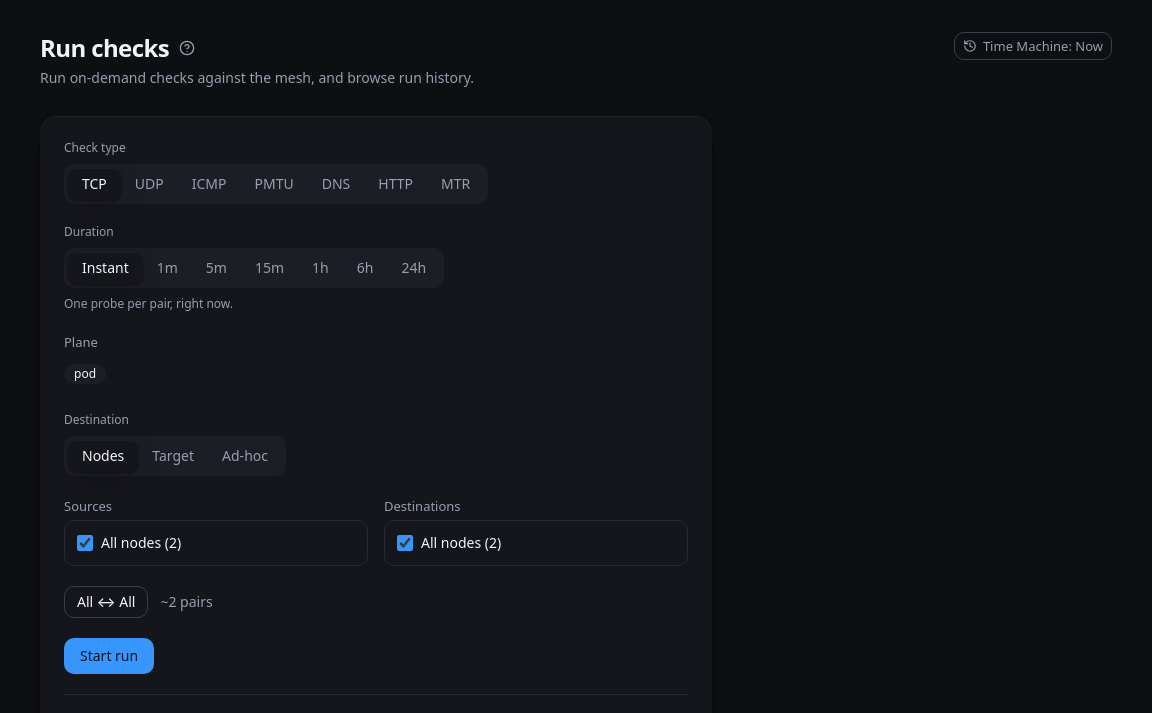
Test: DiagnosticsPage destination kinds › swaps the node destination checkboxes for the external field and back
Check: the element "Destinations All nodes (2)" is shown, box [384,496,688,566]
Click the radio button labelled "Ad-hoc" at (245, 456), box [208,440,282,472]
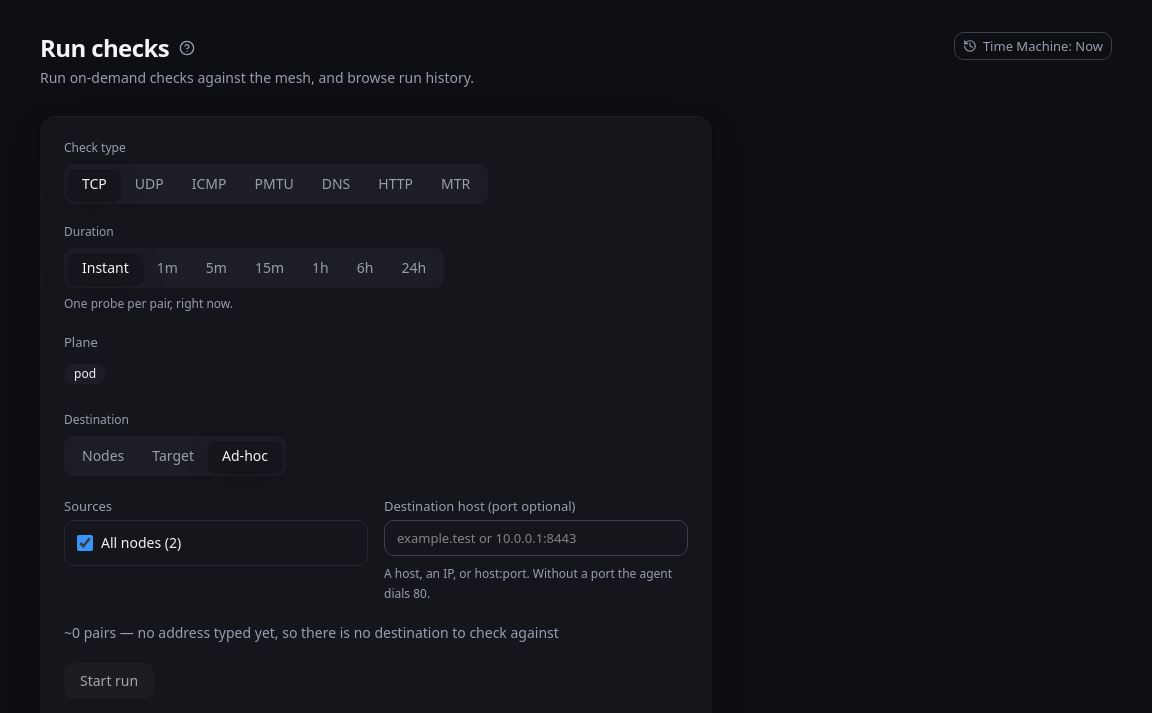
Check: the text "Destinations" is gone
Check: the field labelled "Destination host (port optional)" is shown, box [384,520,688,556]
Click the radio button labelled "Nodes" at (103, 456), box [68,440,138,472]
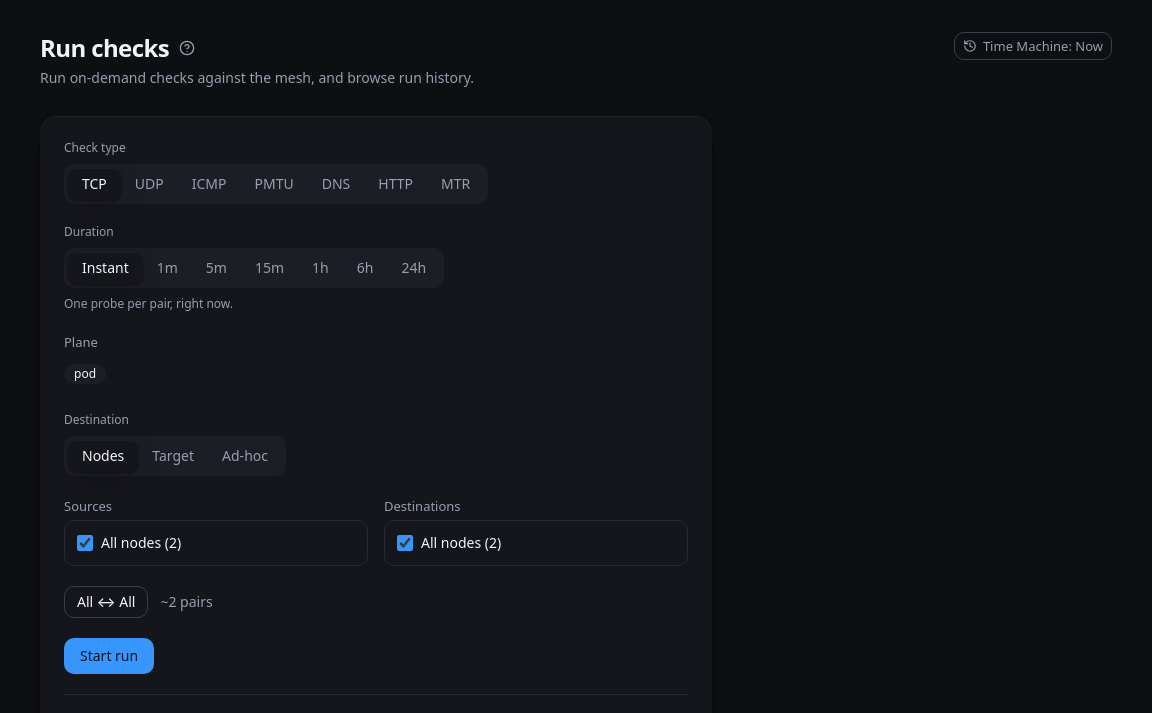
Check: the element "Destinations All nodes (2)" is shown, box [384,496,688,566]
Check: the label labelled "Destination host (port optional)" is gone
